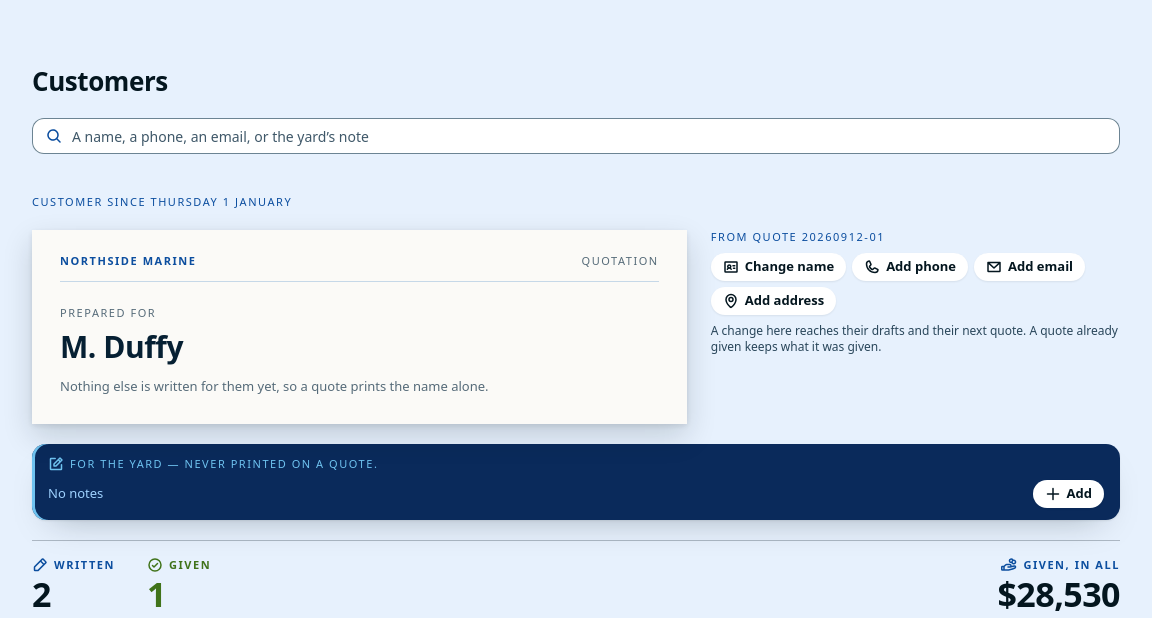
Test case: the person the dealer has just quoted is a customer (M2-close #7) › keeps them the first time their page is given something, and their draft prints it
The image size is (1152, 618).
Click the button "Add phone": (910, 267) [852, 253, 968, 281]
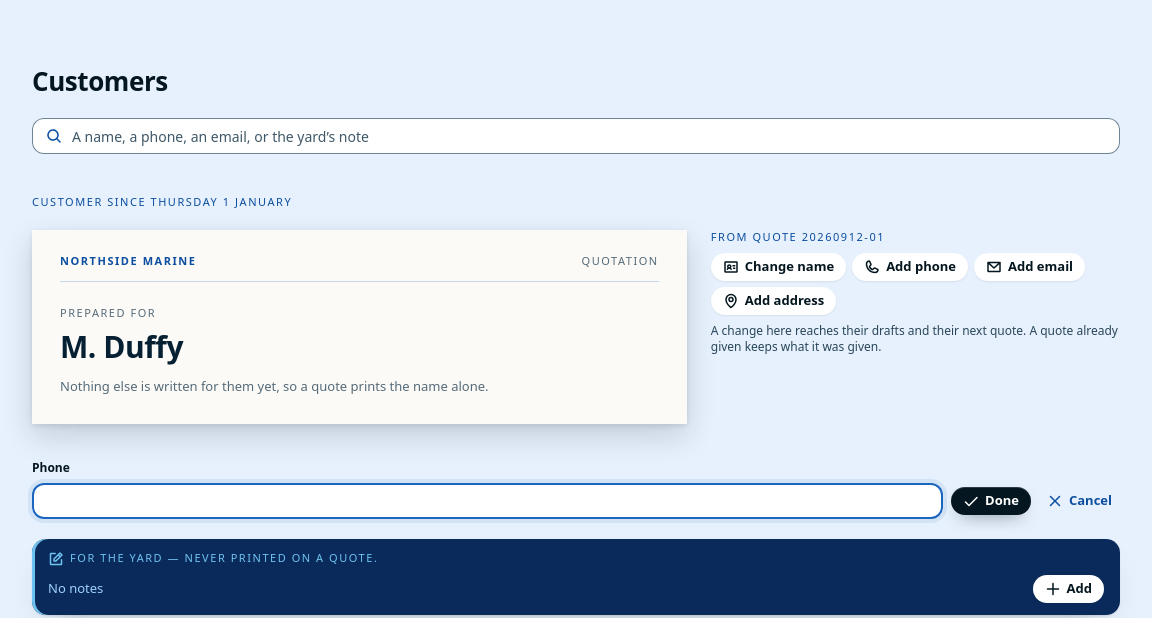
In the field labelled "Phone": (488, 501) [32, 483, 943, 519], type "0400 123 456"
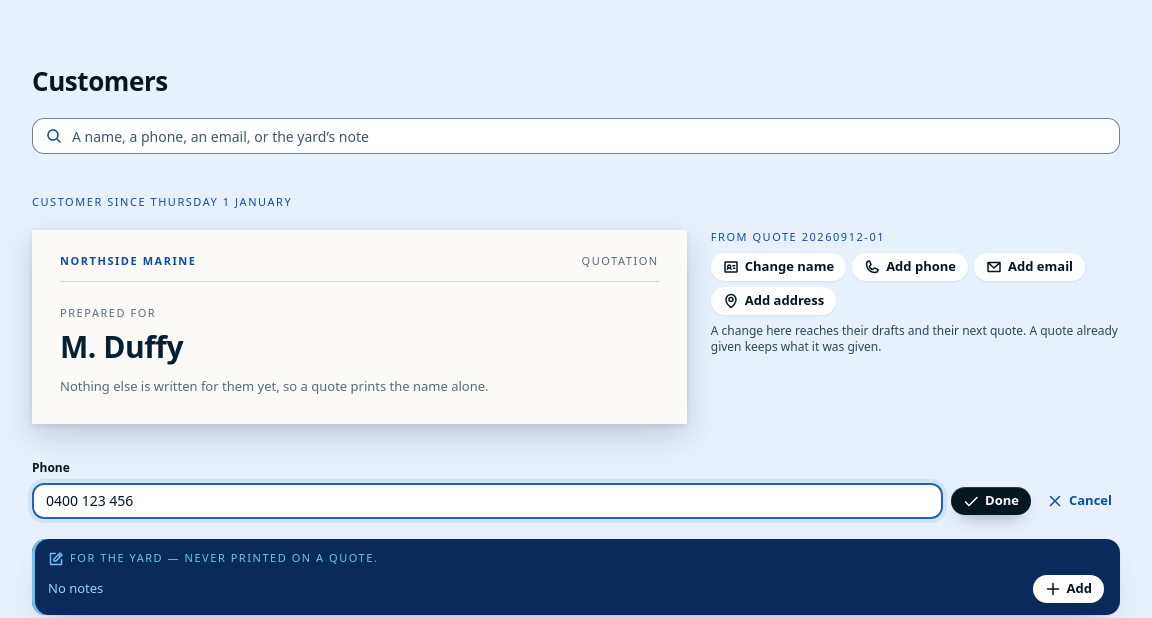
Click the button "Done": (991, 501) [951, 487, 1031, 515]
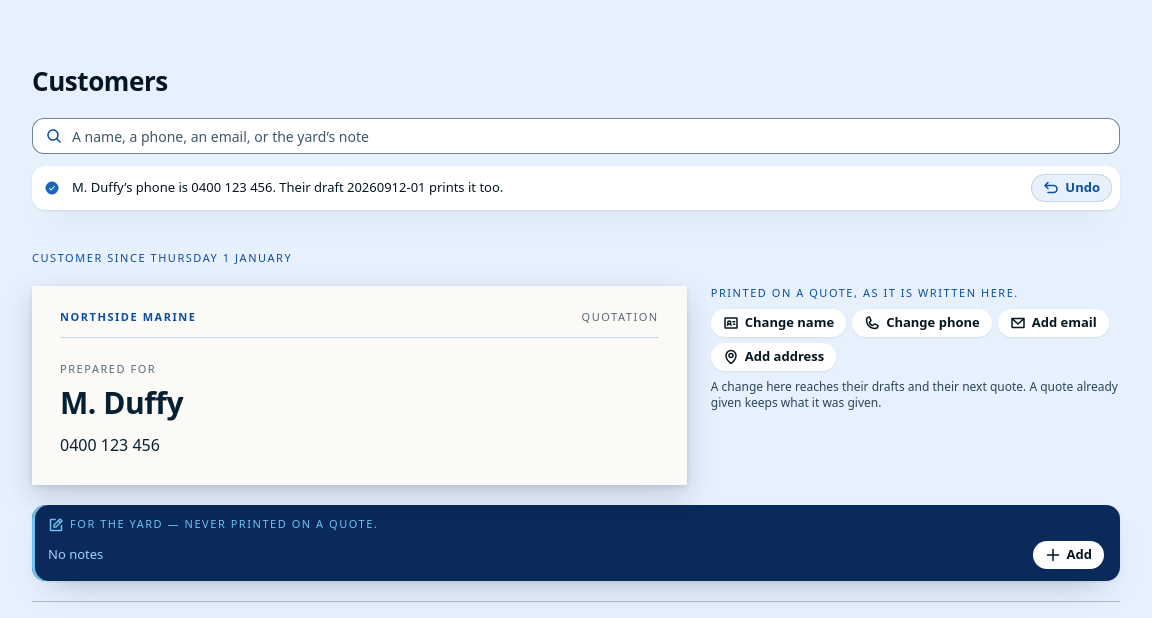
expect the heading "Customers" is shown: met, box [32, 68, 168, 94]
expect the element with class "cu-paper" shows "0400 123 456": met, box [60, 434, 160, 456]
